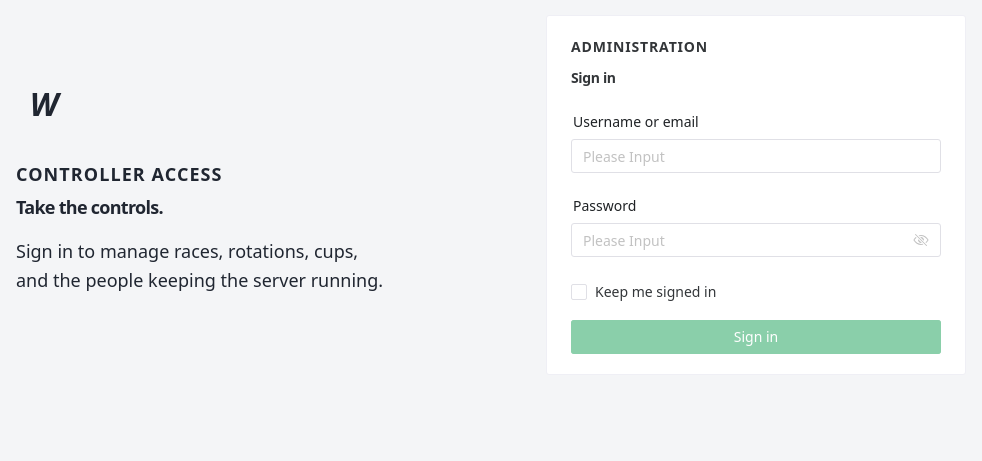
Test: LoginView › shows rate-limited feedback after a failed sign-in
Type "admin" into the field named "login". click: coordinates (756, 156)
box: [583,139,929,173]
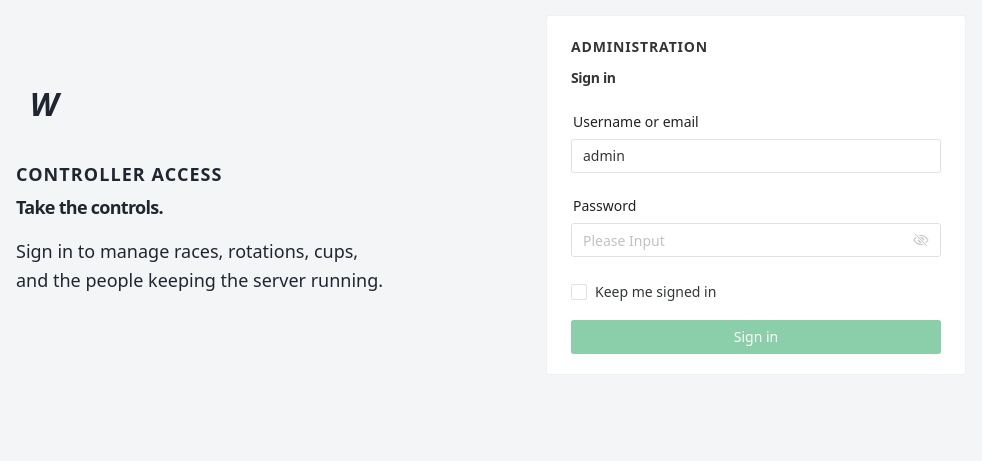
Type "secret" into the password field named "password". click: coordinates (746, 240)
box: [583,223,909,257]
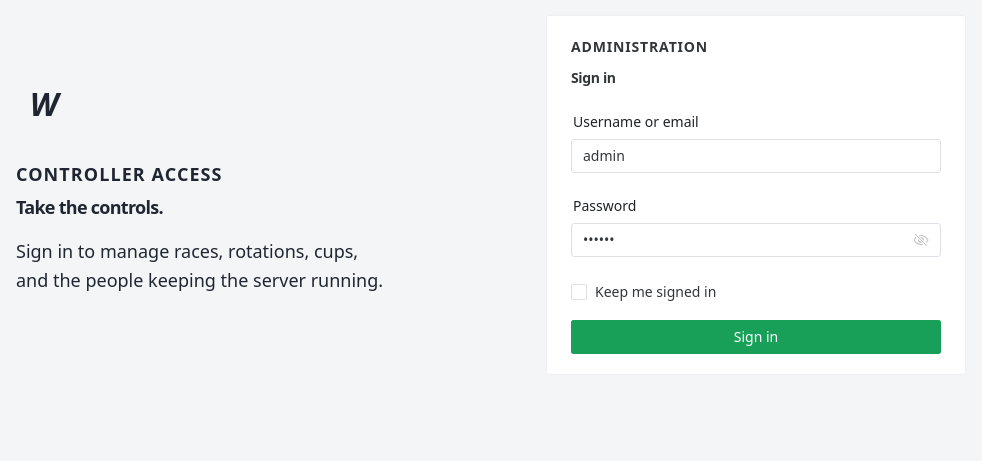
Submit the form, box [571,113,941,354]
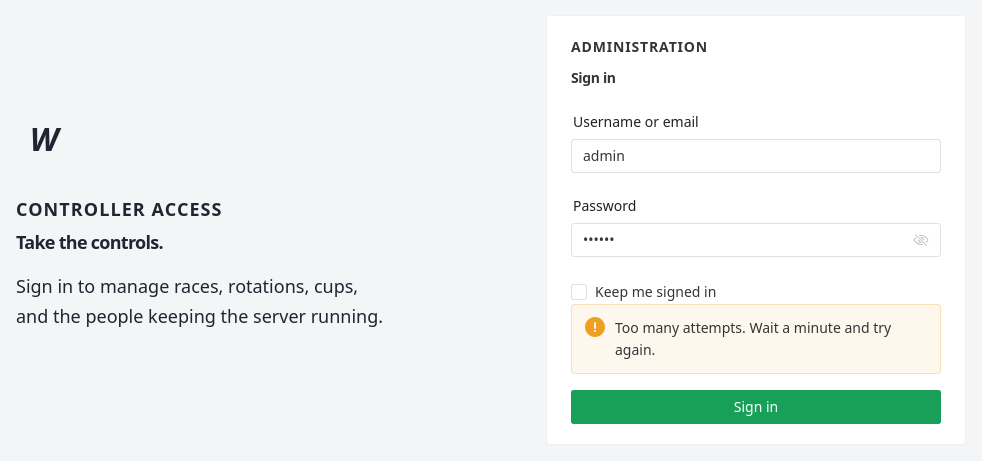
expect the text "Too many attempts." is shown: met, box [615,318,891,359]
